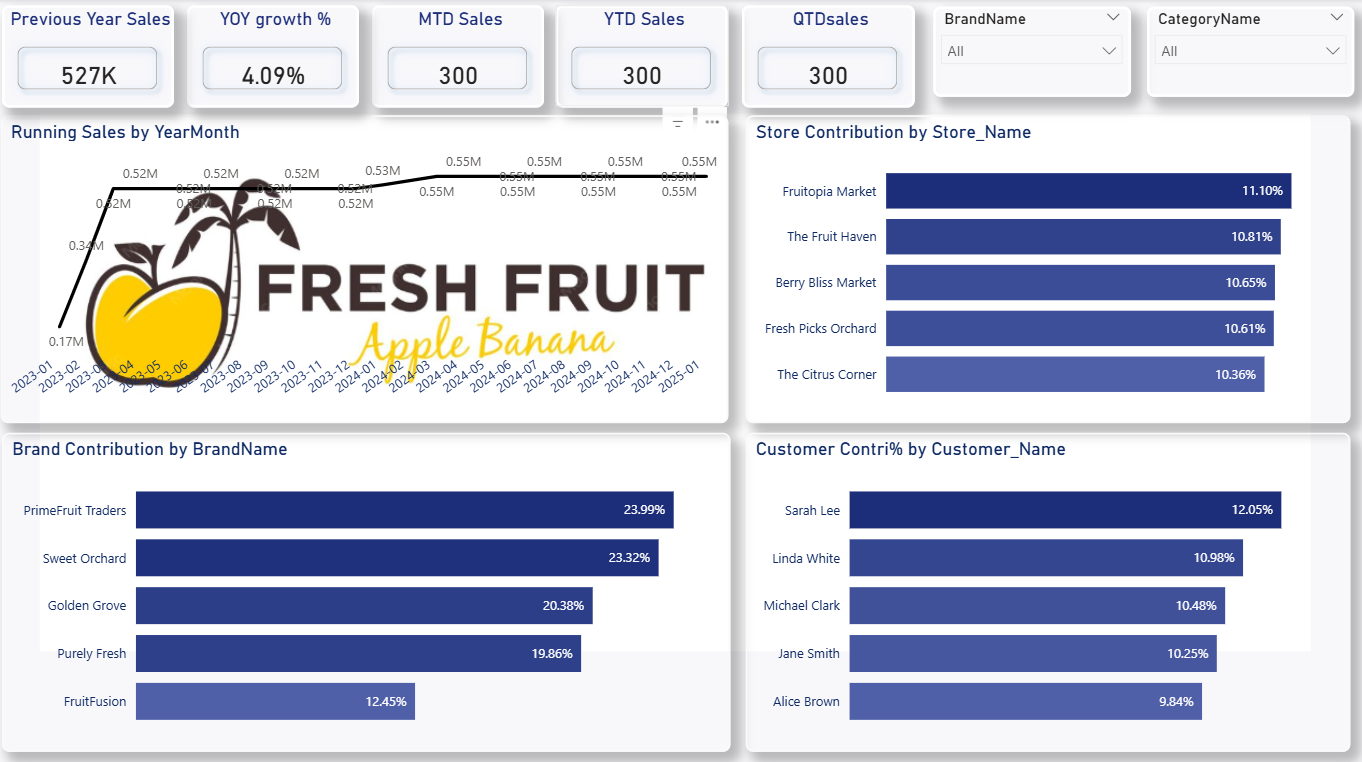

The dashboard page shown, as its layout file describes it:
{"tool":"powerbi","page":{"name":"Page 2","canvas":[1280,720],"ordinal":1},"visuals":[{"type":"cardVisual","title":"MTD Sales","fields":{"Data":[".DAX.MTD Sales"]},"box":[357.7,5.6,160,95],"z":0},{"type":"cardVisual","title":"YTD Sales","fields":{"Data":[".DAX.Year to date"]},"box":[529.6,5.6,160,95],"z":1000},{"type":"cardVisual","title":"QTDsales","fields":{"Data":[".DAX.QTD Sales"]},"box":[702.1,5.6,160.5,95],"z":2000},{"type":"lineChart","fields":{"Y":[".DAX.Running Sales"],"Category":["Calendar.YearMonth"]},"box":[12.8,108.1,676.7,286],"z":3000},{"type":"cardVisual","title":"YOY growth %","fields":{"Data":[".DAX.yoy Growth %"]},"box":[185.7,5.6,160,95],"z":4000},{"type":"cardVisual","title":"Previous Year Sales","fields":{"Data":[".DAX.previous year sales"]},"box":[13.7,5.6,160,95],"z":5000},{"type":"barChart","fields":{"Category":["VW_prod.BrandName"],"Y":[".DAX.Brand Contribution"]},"box":[14,403.5,677.9,296.5],"z":6000},{"type":"barChart","fields":{"Category":["Store_dim.Store_Name"],"Y":[".DAX.Store Contribution"]},"box":[705.8,108.1,562.8,286],"z":7000},{"type":"barChart","fields":{"Category":["Customer_dim.Customer_Name"],"Y":[".DAX.Customer Contri%"]},"box":[705.8,403.5,562.8,296.5],"z":8000},{"type":"slicer","fields":{"Values":["VW_prod.BrandName"]},"box":[880.2,7,183.7,83.7],"z":9000},{"type":"slicer","fields":{"Values":["VW_prod.CategoryName"]},"box":[1079.1,7,193,83.7],"z":10000}]}

Visuals, with their boxes in screenshot pixels (x1, y1, x2, y2), scaled from the page's 1280x720 canvas onto the 1362x762 screenshot:
"MTD Sales" cardVisual: [381,6,551,106]
"YTD Sales" cardVisual: [564,6,734,106]
"QTDsales" cardVisual: [747,6,918,106]
lineChart - .DAX.Running Sales x Calendar.YearMonth: [14,114,734,417]
"YOY growth %" cardVisual: [198,6,368,106]
"Previous Year Sales" cardVisual: [15,6,185,106]
barChart - VW_prod.BrandName x .DAX.Brand Contribution: [15,427,736,741]
barChart - Store_dim.Store_Name x .DAX.Store Contribution: [751,114,1350,417]
barChart - Customer_dim.Customer_Name x .DAX.Customer Contri%: [751,427,1350,741]
slicer - VW_prod.BrandName: [937,7,1132,96]
slicer - VW_prod.CategoryName: [1148,7,1354,96]
